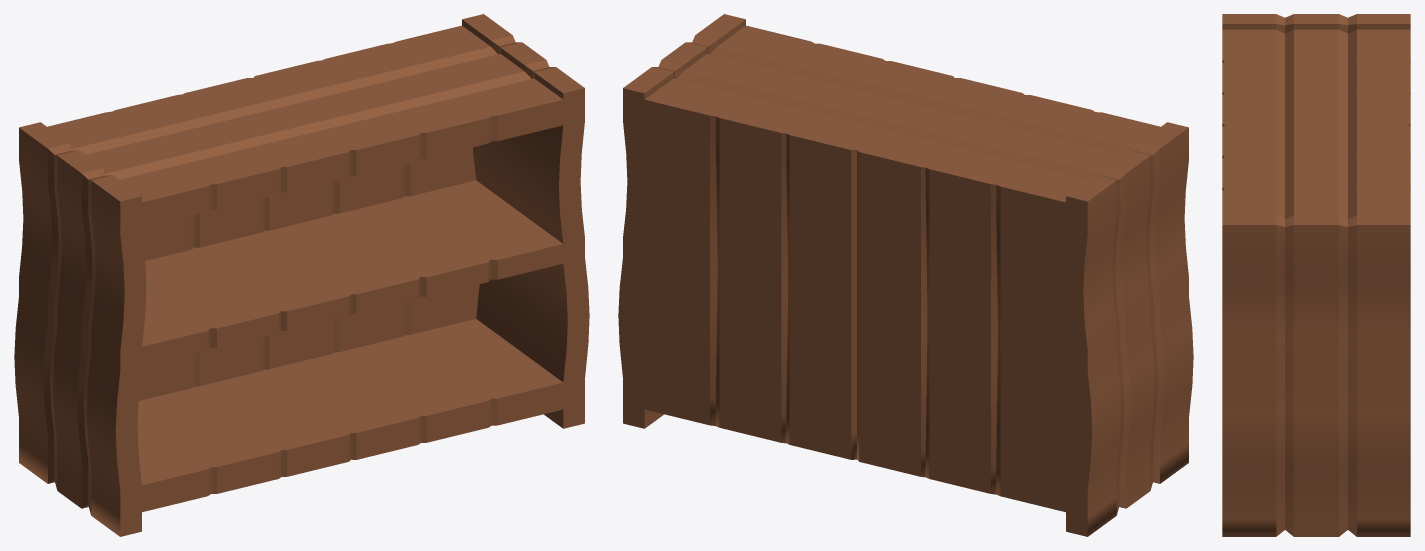
Rendered from Estanteria.fbx.
The picture shows the model from 3 angles, left to right: view 1: azimuth 30°, elevation 25°; view 2: azimuth 150°, elevation 25°; view 3: azimuth 270°, elevation 25°; orthographic projection. The views are drawn at different scales.
Visible parts, largest first — view 1: Estanteria.003; view 2: Estanteria.003; view 3: Estanteria.003.
Boxes of the visible parts, x1,y1,x2,y2 form: Estanteria.003: [14, 14, 589, 536]; Estanteria.003: [618, 14, 1193, 536]; Estanteria.003: [1222, 14, 1410, 536].
Bounding box in the file's own units: 335 × 227 × 124.
